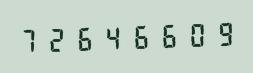four: (98, 20, 124, 53)
nine: (206, 17, 232, 49)
seven: (17, 23, 43, 55)
six: (71, 21, 97, 54), (125, 20, 151, 52), (152, 19, 178, 51)
two: (44, 22, 70, 54)
zero: (179, 18, 205, 50)
